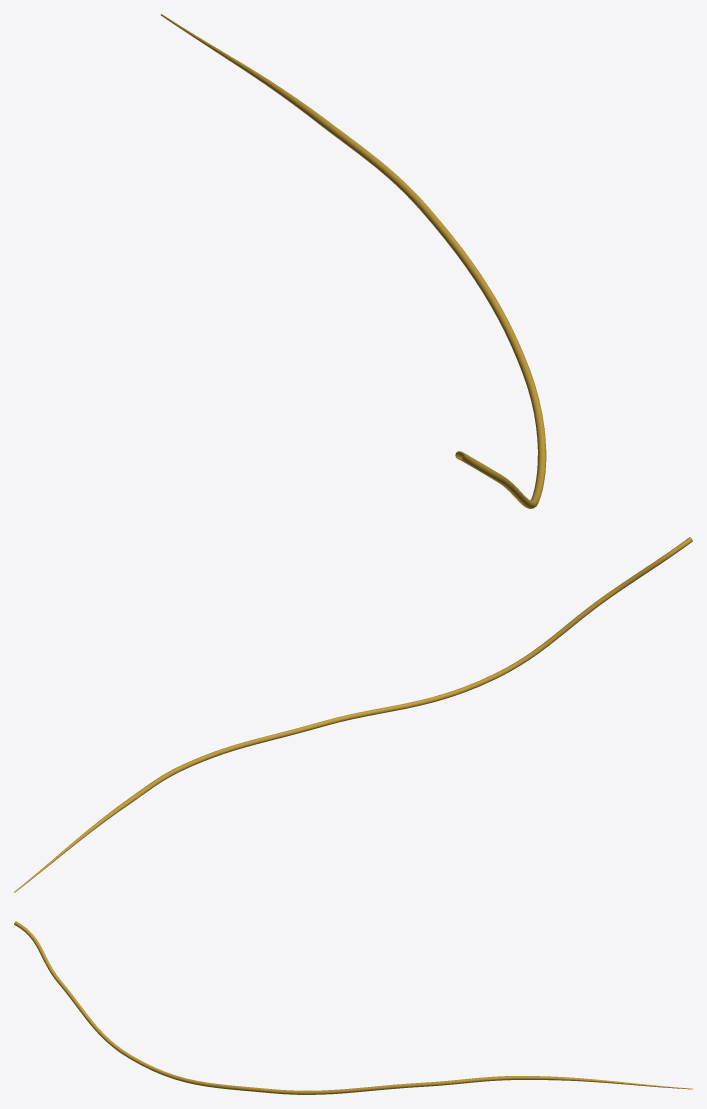
3 renders of one model, top to bottom at view 1: azimuth 30°, elevation 25°; view 2: azimuth 150°, elevation 25°; view 3: azimuth 270°, elevation 25°, orthographic. The views are drawn at different scales.
Visible parts, largest first — view 1: 左侧前臂外侧皮神经; view 2: 左侧前臂外侧皮神经; view 3: 左侧前臂外侧皮神经.
Boxes of the visible parts, bbox=[...] form: 左侧前臂外侧皮神经: bbox=[161, 14, 546, 508]; 左侧前臂外侧皮神经: bbox=[14, 537, 692, 892]; 左侧前臂外侧皮神经: bbox=[14, 921, 692, 1094].
Bounding box in the file's own units: 0.0777 × 0.0387 × 0.2387.
